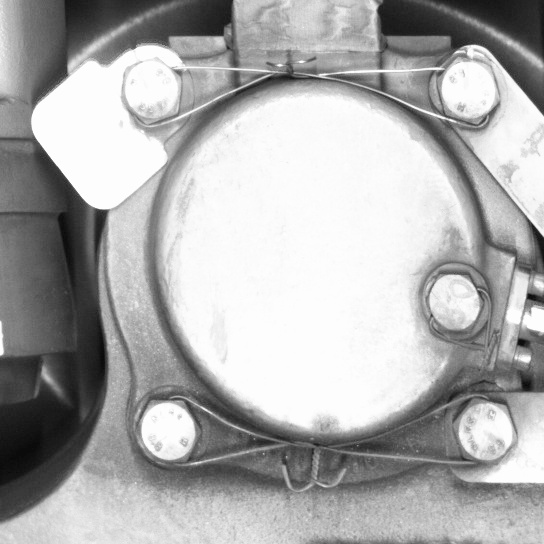IronWire: (108, 44, 512, 137), (121, 390, 519, 477)
Screw: (422, 45, 510, 137), (108, 46, 196, 137), (123, 390, 208, 472), (442, 389, 519, 476), (417, 262, 490, 343)
